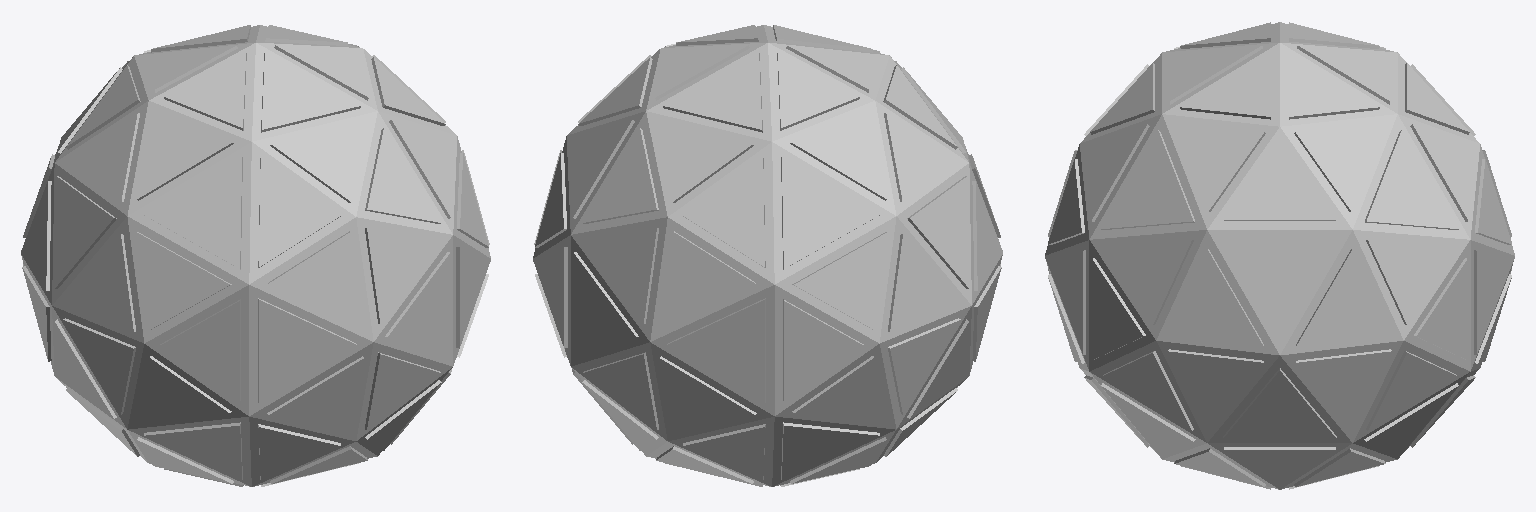
The model's file is Cristal.obj.
3 views of the same model, side by side, from view 1: azimuth 30°, elevation 25°; view 2: azimuth 150°, elevation 25°; view 3: azimuth 270°, elevation 25° (orthographic).
Parts seen in each view (by area): view 1: Sphere; view 2: Sphere; view 3: Sphere.
Part boxes in pixels (x1,y1,x2,y2): Sphere: (21,25,490,486); Sphere: (533,25,1002,486); Sphere: (1045,22,1514,489).
Bounding box in the file's own units: 80 × 80 × 80.